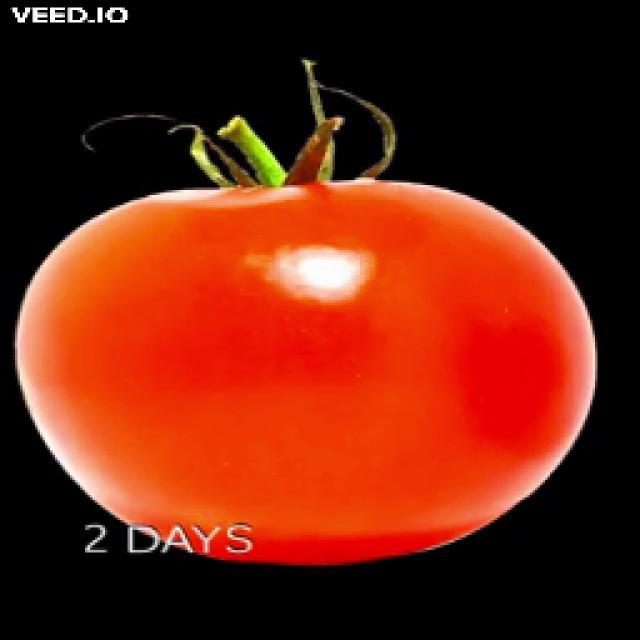tomato: (14, 179, 598, 569)
